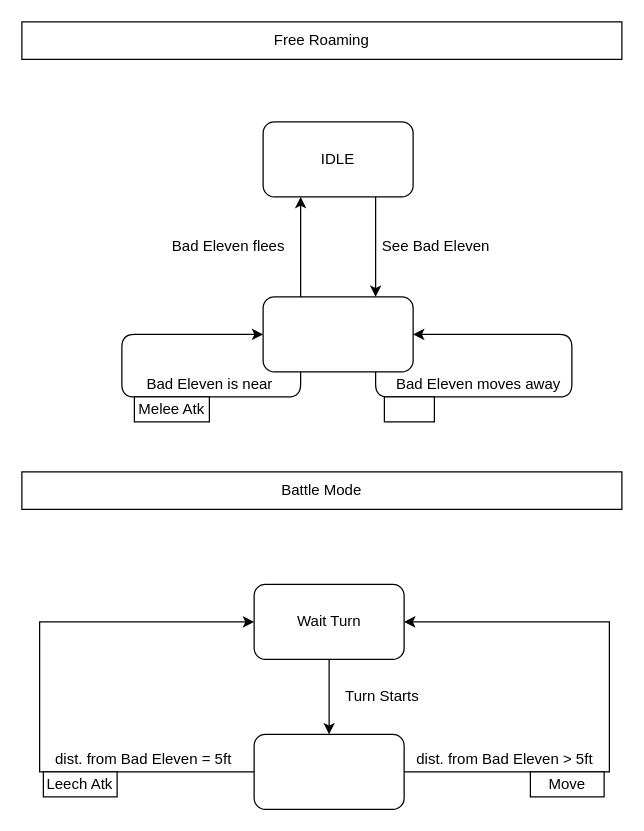
Image size: 644x831. Some labels were removed from this diagram. The centre of each missing label's shape, as x and y in pixels:
"Action One" belongs at (328,771).
"AGGRESSIVE" belongs at (337,334).
"Chase" belongs at (408,409).
